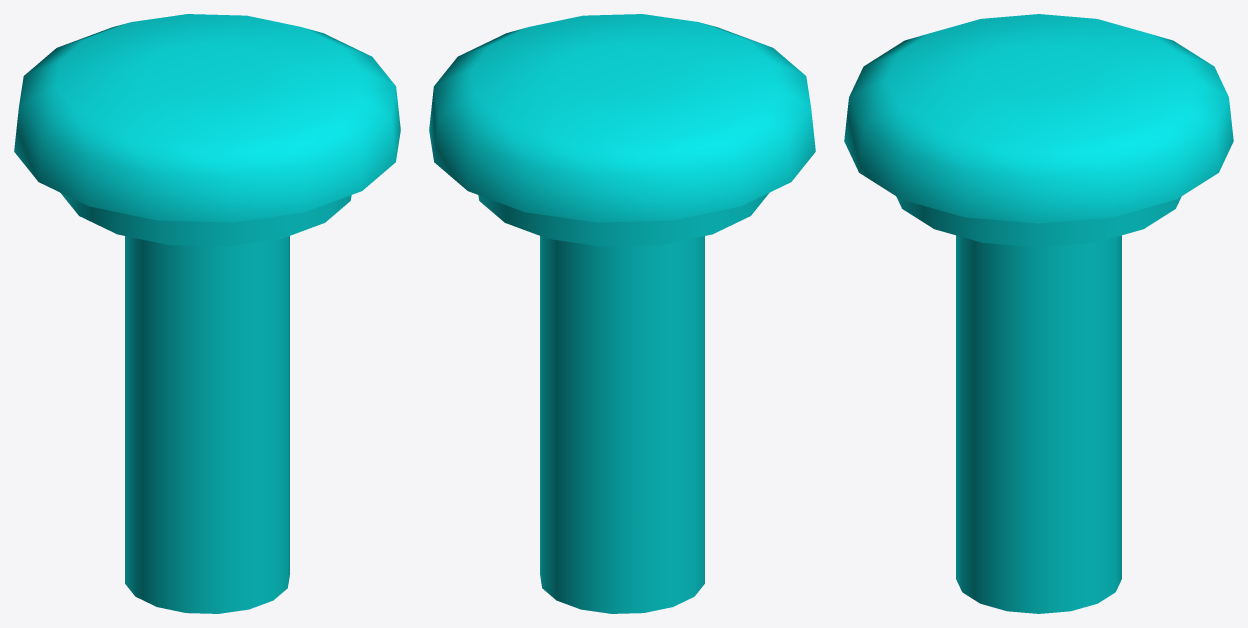
Rendered from komono2.fbx.
3 views of the same model, side by side, from view 1: azimuth 30°, elevation 25°; view 2: azimuth 150°, elevation 25°; view 3: azimuth 270°, elevation 25° (orthographic).
Parts seen in each view (by area): view 1: Cylinder.008; view 2: Cylinder.008; view 3: Cylinder.008.
Boxes of the visible parts, bbox=[...] form: Cylinder.008: bbox=[14, 14, 400, 613]; Cylinder.008: bbox=[429, 14, 815, 613]; Cylinder.008: bbox=[844, 14, 1233, 613].
Size of the model in its own units: 8.33 by 11.96 by 8.33.
